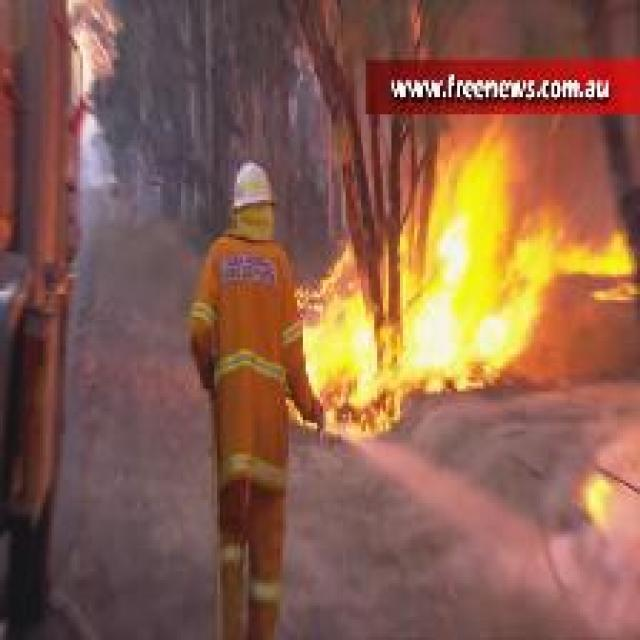Fire: (288, 117, 640, 440)
